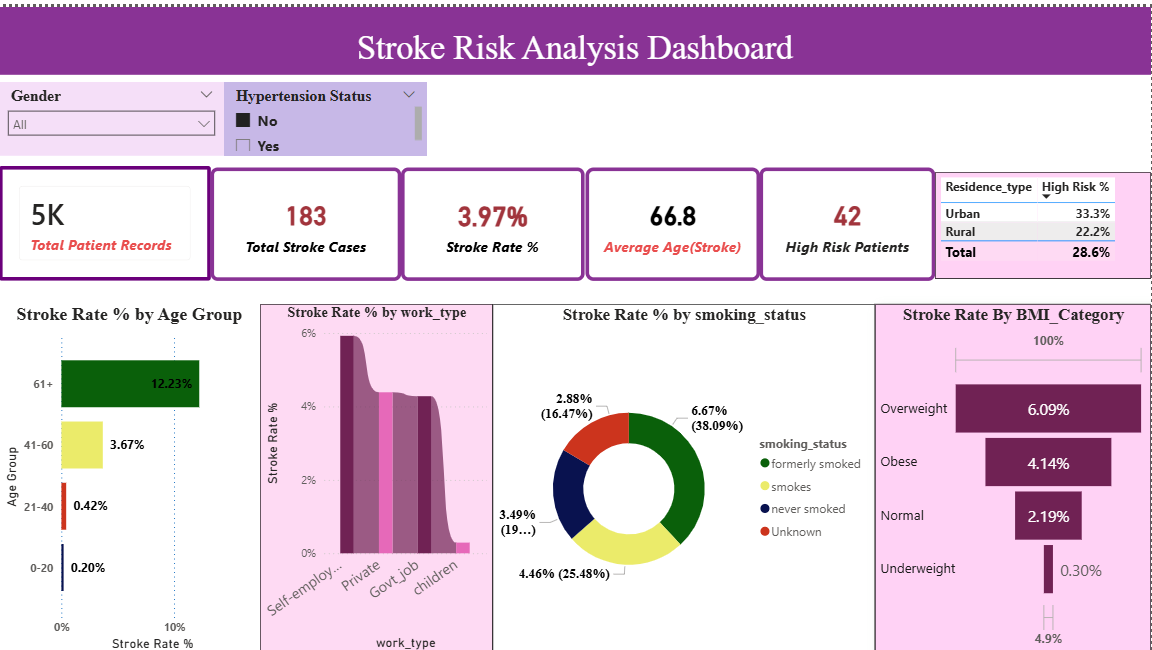

This screenshot's page, from the dashboard's own definition file:
{"tool":"powerbi","page":{"name":"Page 1","canvas":[1280,720],"ordinal":0},"visuals":[{"type":"cardVisual","fields":{"Data":["healthcare-dataset-stroke-data.Total Patient Records"]},"box":[0,177.2,235.2,127.5],"z":0},{"type":"card","fields":{"Values":["healthcare-dataset-stroke-data.Total Stroke Cases"]},"box":[235.2,178.9,212,125.9],"z":1000},{"type":"card","fields":{"Values":["healthcare-dataset-stroke-data.Stroke Rate %"]},"box":[447.2,178.9,203.7,125.9],"z":2000},{"type":"card","fields":{"Values":["healthcare-dataset-stroke-data.Average Age(Stroke)"]},"box":[651,178.9,193.8,125.9],"z":3000},{"type":"card","fields":{"Values":["healthcare-dataset-stroke-data.High Risk Patients"]},"box":[844.8,178.9,195.5,125.9],"z":4000},{"type":"barChart","fields":{"Category":["healthcare-dataset-stroke-data.Age Group"],"Y":["healthcare-dataset-stroke-data.Stroke Rate %"]},"box":[0,341.7,303.3,378.3],"z":5000},{"type":"donutChart","fields":{"Category":["healthcare-dataset-stroke-data.smoking_status"],"Y":["healthcare-dataset-stroke-data.Stroke Rate %"]},"box":[548.3,341.7,425,378.3],"z":6000},{"type":"slicer","fields":{"Values":["healthcare-dataset-stroke-data.hypertension Status"]},"box":[250,83.3,225,81.7],"z":7000},{"type":"slicer","fields":{"Values":["healthcare-dataset-stroke-data.gender"]},"box":[0,83.3,250,81.7],"z":8000},{"type":"funnel","title":"Stroke Rate By BMI_Category","fields":{"Category":["healthcare-dataset-stroke-data.BMI category"],"Y":["healthcare-dataset-stroke-data.Stroke Rate %"]},"box":[975,341.7,305,378.3],"z":9000},{"type":"textbox","box":[0,0,1280,75],"z":10000},{"type":"tableEx","fields":{"Values":["healthcare-dataset-stroke-data.Residence_type","healthcare-dataset-stroke-data.High Risk %"]},"box":[1040,183.3,240,118.3],"z":11000},{"type":"ribbonChart","fields":{"Category":["healthcare-dataset-stroke-data.work_type"],"Y":["healthcare-dataset-stroke-data.Stroke Rate %"]},"box":[303.3,341.7,245,378.3],"z":12000}]}

Visuals, with their boxes in screenshot pixels (x1, y1, x2, y2), scaled from the page's 1280x720 canvas onto the 1152x650 screenshot:
cardVisual - healthcare-dataset-stroke-data.Total Patient Records: <region>0, 160, 212, 275</region>
card - healthcare-dataset-stroke-data.Total Stroke Cases: <region>212, 162, 402, 275</region>
card - healthcare-dataset-stroke-data.Stroke Rate %: <region>402, 162, 586, 275</region>
card - healthcare-dataset-stroke-data.Average Age(Stroke): <region>586, 162, 760, 275</region>
card - healthcare-dataset-stroke-data.High Risk Patients: <region>760, 162, 936, 275</region>
barChart - healthcare-dataset-stroke-data.Age Group x healthcare-dataset-stroke-data.Stroke Rate %: <region>0, 308, 273, 649</region>
donutChart - healthcare-dataset-stroke-data.smoking_status x healthcare-dataset-stroke-data.Stroke Rate %: <region>493, 308, 876, 649</region>
slicer - healthcare-dataset-stroke-data.hypertension Status: <region>225, 75, 428, 149</region>
slicer - healthcare-dataset-stroke-data.gender: <region>0, 75, 225, 149</region>
"Stroke Rate By BMI_Category" funnel: <region>878, 308, 1151, 649</region>
textbox: <region>0, 0, 1151, 68</region>
tableEx - healthcare-dataset-stroke-data.Residence_type x healthcare-dataset-stroke-data.High Risk %: <region>936, 165, 1151, 272</region>
ribbonChart - healthcare-dataset-stroke-data.work_type x healthcare-dataset-stroke-data.Stroke Rate %: <region>273, 308, 493, 649</region>
